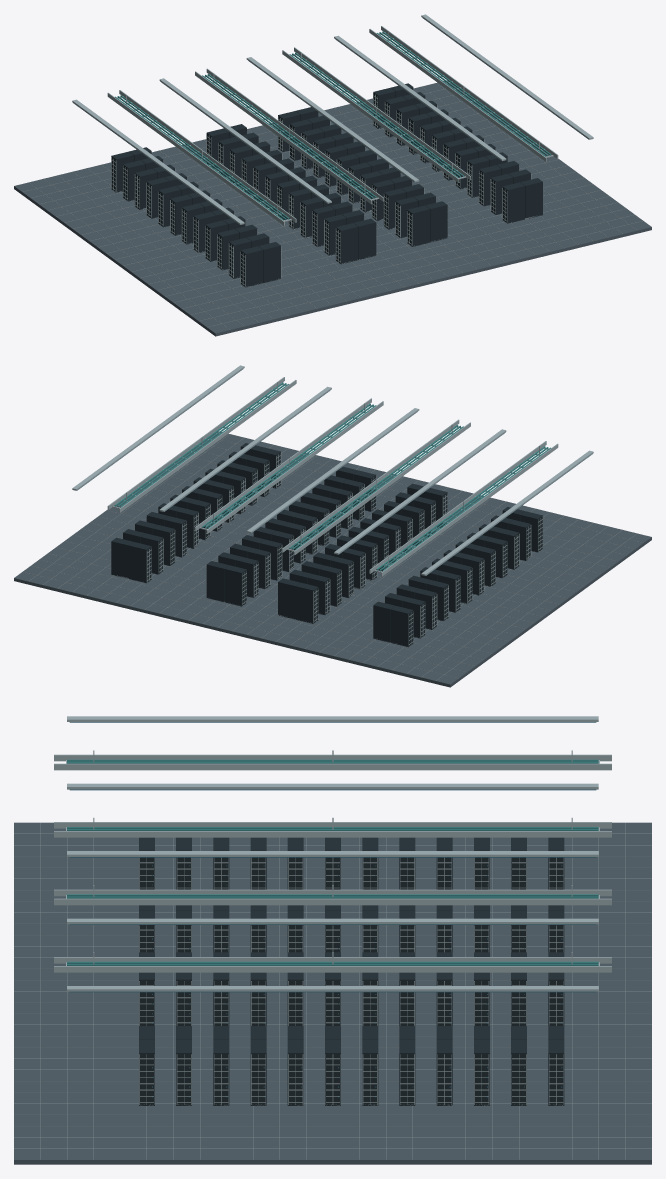
File: data-hall-interior.glb
3 views of the same model, one above another, from view 1: azimuth 30°, elevation 25°; view 2: azimuth 150°, elevation 25°; view 3: azimuth 270°, elevation 25° (orthographic). The views are drawn at different scales.
Visible parts, largest first — view 1: Floor, Racks, Overhead; view 2: Floor, Racks, Overhead; view 3: Floor, Overhead, Racks.
Boxes of the visible parts, x1,y1,x2,y2 form: Floor: [14, 80, 651, 336]; Racks: [111, 83, 542, 287]; Overhead: [72, 14, 593, 225]; Floor: [14, 431, 651, 687]; Racks: [111, 443, 542, 647]; Overhead: [72, 365, 593, 576]; Floor: [14, 822, 651, 1164]; Overhead: [54, 716, 611, 992]; Racks: [139, 837, 564, 1105].
Size of the model in its own units: 30 by 6 by 24.
